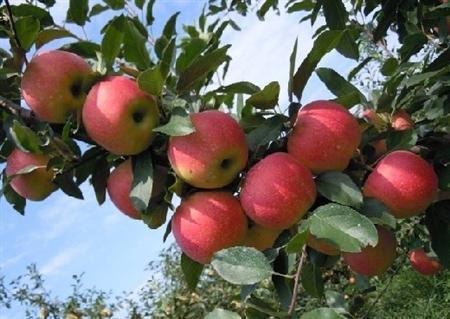apple: (167, 109, 247, 190), (81, 75, 158, 155), (283, 98, 361, 174), (171, 187, 248, 262), (243, 153, 320, 228), (21, 48, 94, 123), (363, 150, 437, 217), (345, 225, 396, 276)
